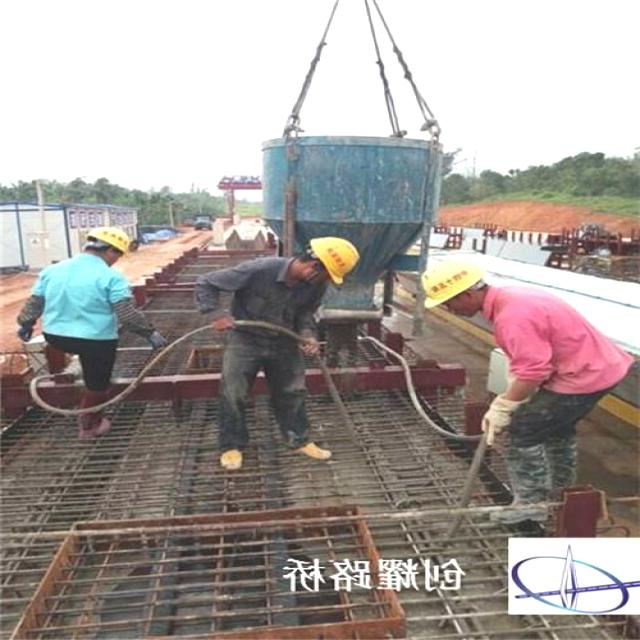hand_glove: (109, 300, 166, 352), (6, 289, 54, 349), (475, 386, 526, 442)
head_helmet: (416, 257, 489, 307), (311, 233, 367, 287), (79, 228, 145, 251)
person: (187, 223, 374, 478), (424, 259, 596, 517), (16, 223, 140, 444)
shoes: (73, 384, 116, 440), (294, 437, 338, 463), (216, 444, 250, 474)
